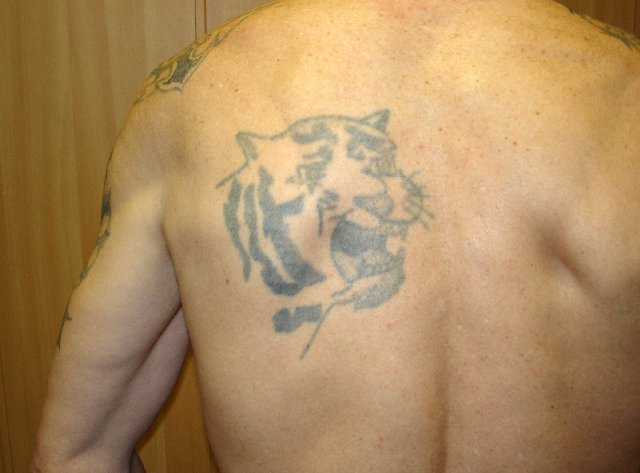tatu5_tigr: (210, 109, 436, 360)
